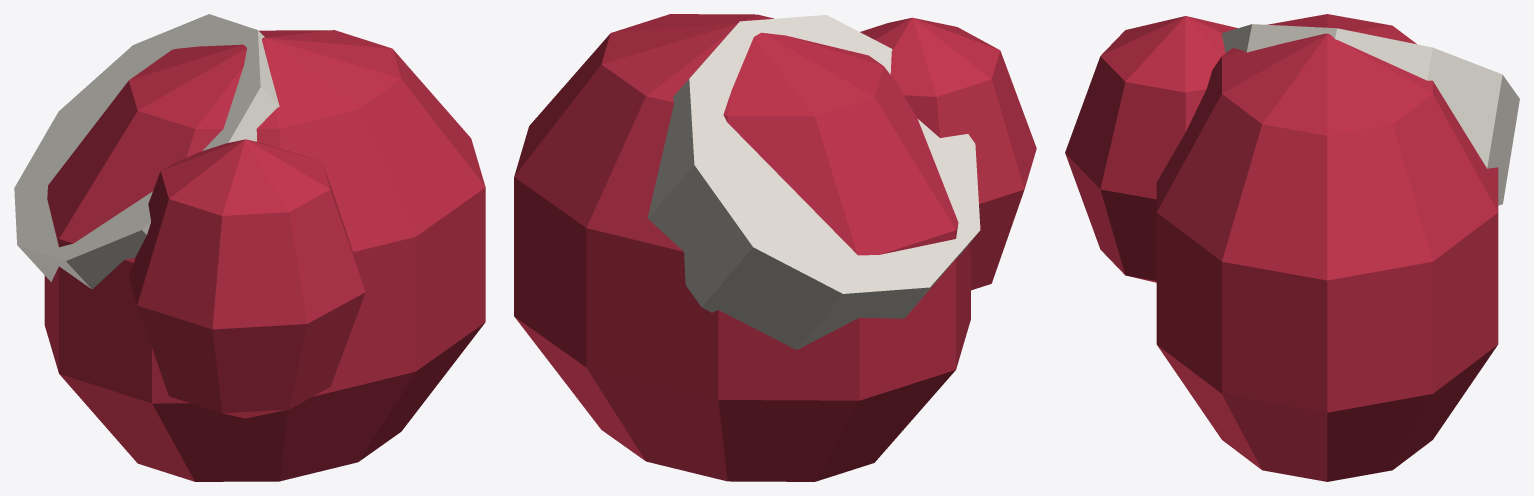
The model's file is boxing-glove-L.glb.
3 views of the same model, side by side, from view 1: azimuth 30°, elevation 25°; view 2: azimuth 150°, elevation 25°; view 3: azimuth 270°, elevation 25° (orthographic). The views are drawn at different scales.
Parts seen in each view (by area): view 1: glove_L; view 2: glove_L; view 3: glove_L.
Boxes of the visible parts, x1,y1,x2,y2 form: glove_L: (14,14,485,481); glove_L: (514,14,1036,481); glove_L: (1065,14,1519,481).
Bounding box in the file's own units: 0.2523 × 0.2528 × 0.241.
